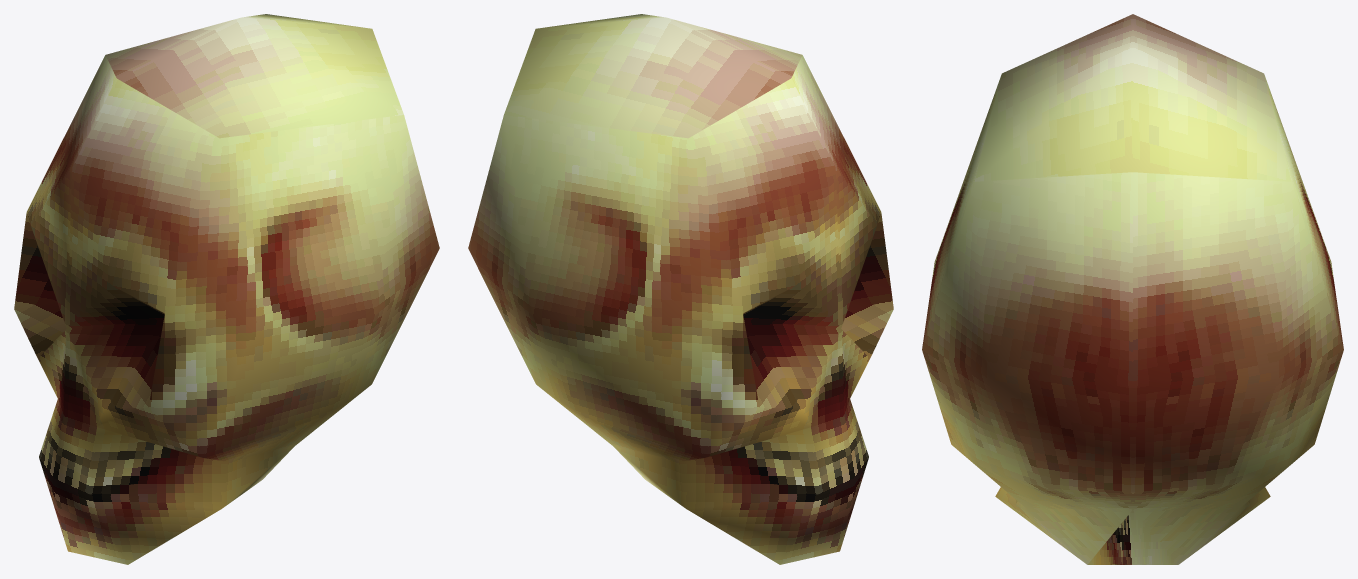
Rendered from SCULL_ACTORDEF.fbx.
The picture shows the model from 3 angles, left to right: view 1: azimuth 30°, elevation 25°; view 2: azimuth 150°, elevation 25°; view 3: azimuth 270°, elevation 25°; orthographic projection. The views are drawn at different scales.
Visible parts, largest first — view 1: U3DMesh; view 2: U3DMesh; view 3: U3DMesh.
Boxes of the visible parts, x1=… form: U3DMesh: x1=14, y1=14, x2=439, y2=564; U3DMesh: x1=468, y1=14, x2=893, y2=564; U3DMesh: x1=922, y1=14, x2=1343, y2=564.
Size of the model in its own units: 0.7201 by 0.937 by 0.634.
